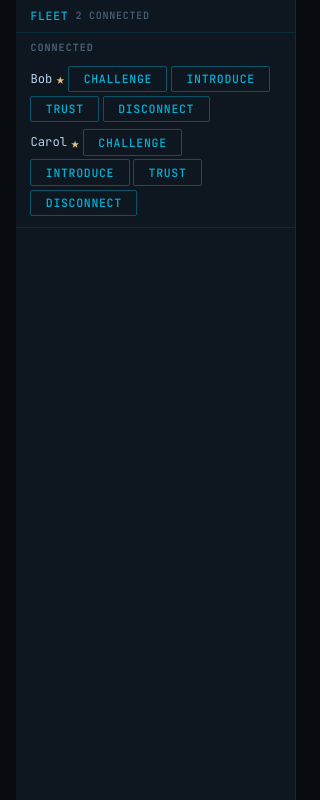
Fleet › Connected › clicking introduce shows other trusting peers to select
What coordinates should you click on to do the following:
click the 1st button "Introduce"
I would click on:
 (221, 79)
Its box is top-left (171, 66), bottom-right (270, 92).
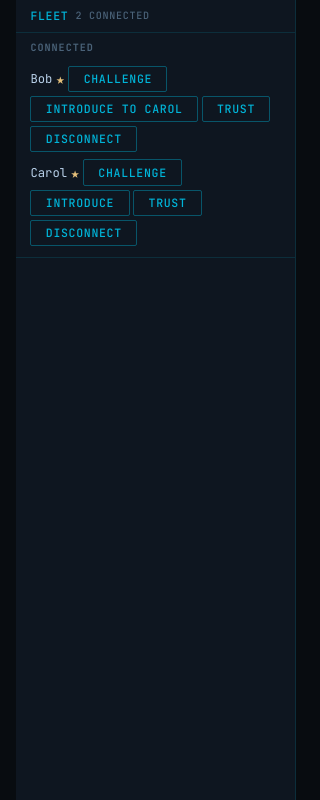
expect the button "Introduce to Carol" is shown: met, box top-left (30, 96), bottom-right (198, 122)
